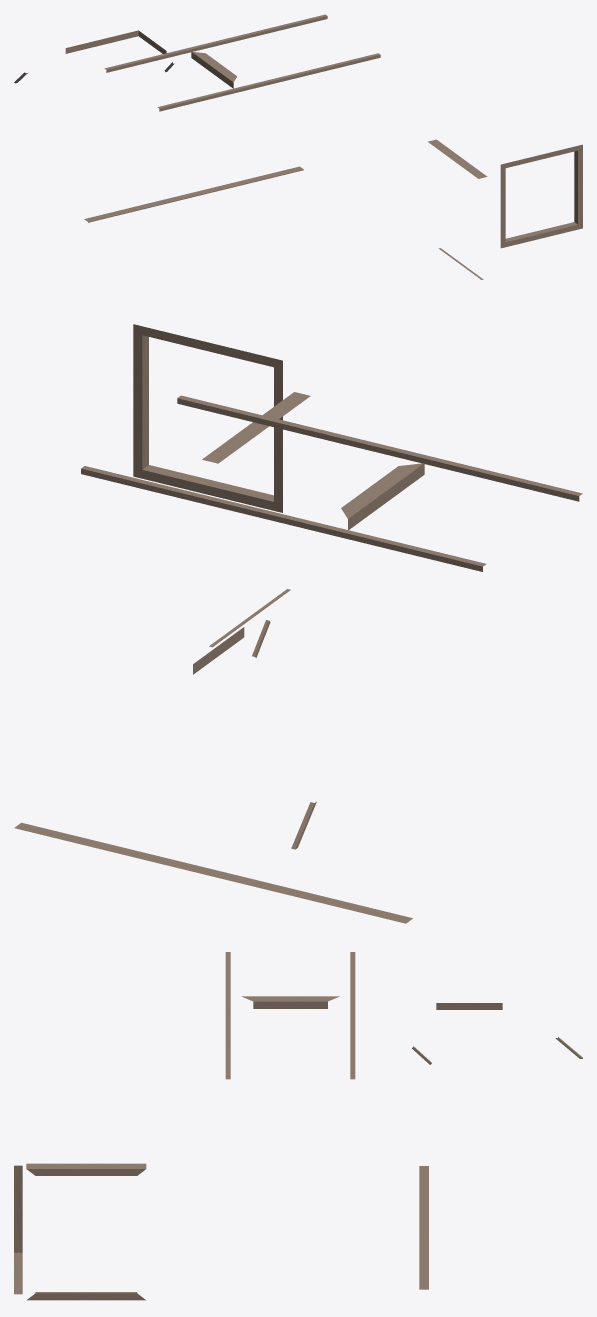
File: kd_stage_135c43_4_17_bounded.glb
3 views of the same model, one above another, from view 1: azimuth 30°, elevation 25°; view 2: azimuth 150°, elevation 25°; view 3: azimuth 270°, elevation 25° (orthographic). The views are drawn at different scales.
Parts seen in each view (by area): view 1: kd_stage_135c43_4_17_bounded; view 2: kd_stage_135c43_4_17_bounded; view 3: kd_stage_135c43_4_17_bounded.
Part boxes in pixels (x1,y1,x2,y2): kd_stage_135c43_4_17_bounded: [14, 14, 582, 279]; kd_stage_135c43_4_17_bounded: [14, 324, 582, 923]; kd_stage_135c43_4_17_bounded: [14, 952, 582, 1300].
Size of the model in its own units: 5.48 by 2.81 by 6.88.
Materials: 1 (1 with a texture image).
